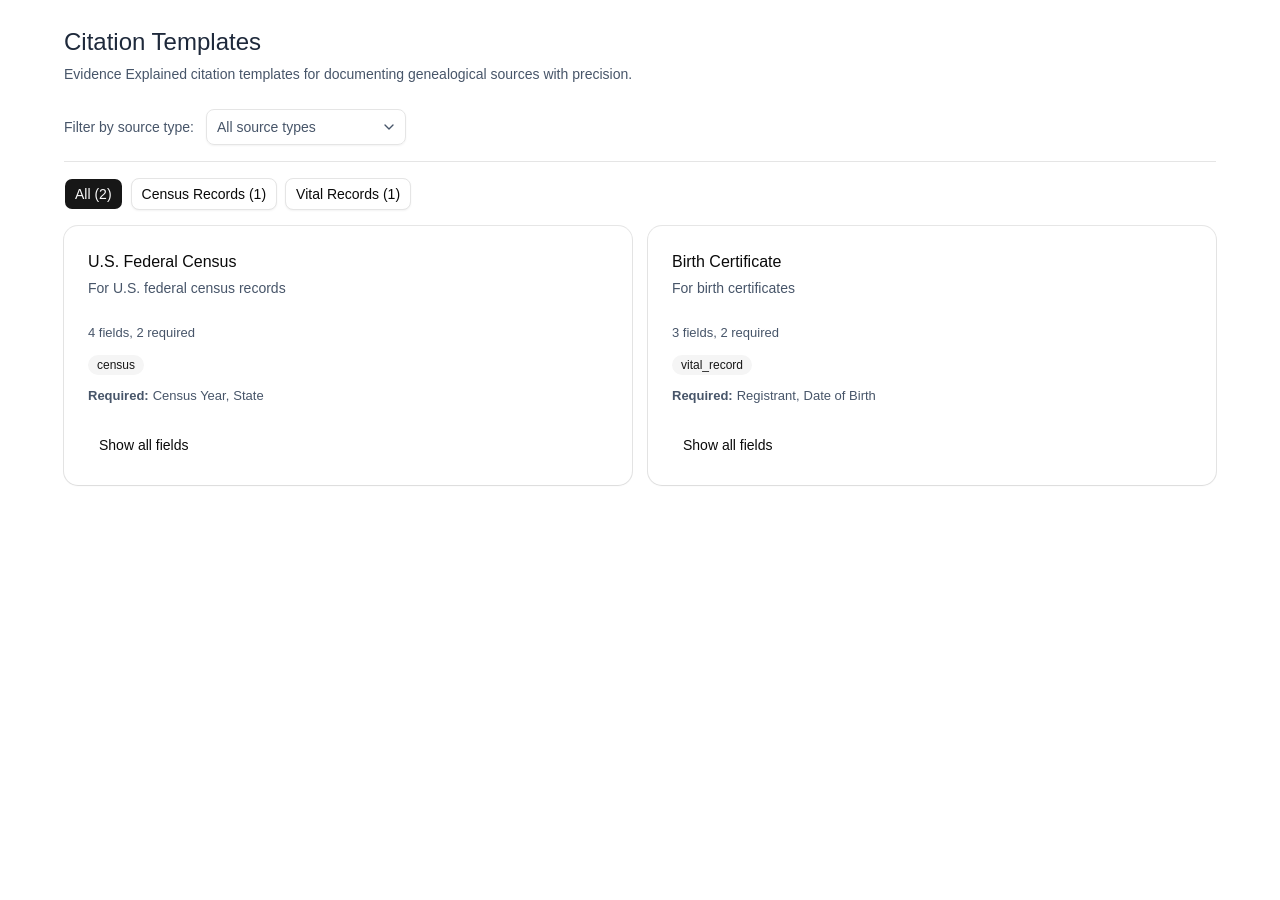
Test: Citation Templates Browse Page › expand button shows field details
Check: the text "U.S. Federal Census" is shown, box x1=88 y1=253 x2=236 y2=270
# Find and click the first "Show all fields" button
Click the button "Show all fields" below "Census Year," at (144, 445), box x1=88 y1=429 x2=200 y2=461
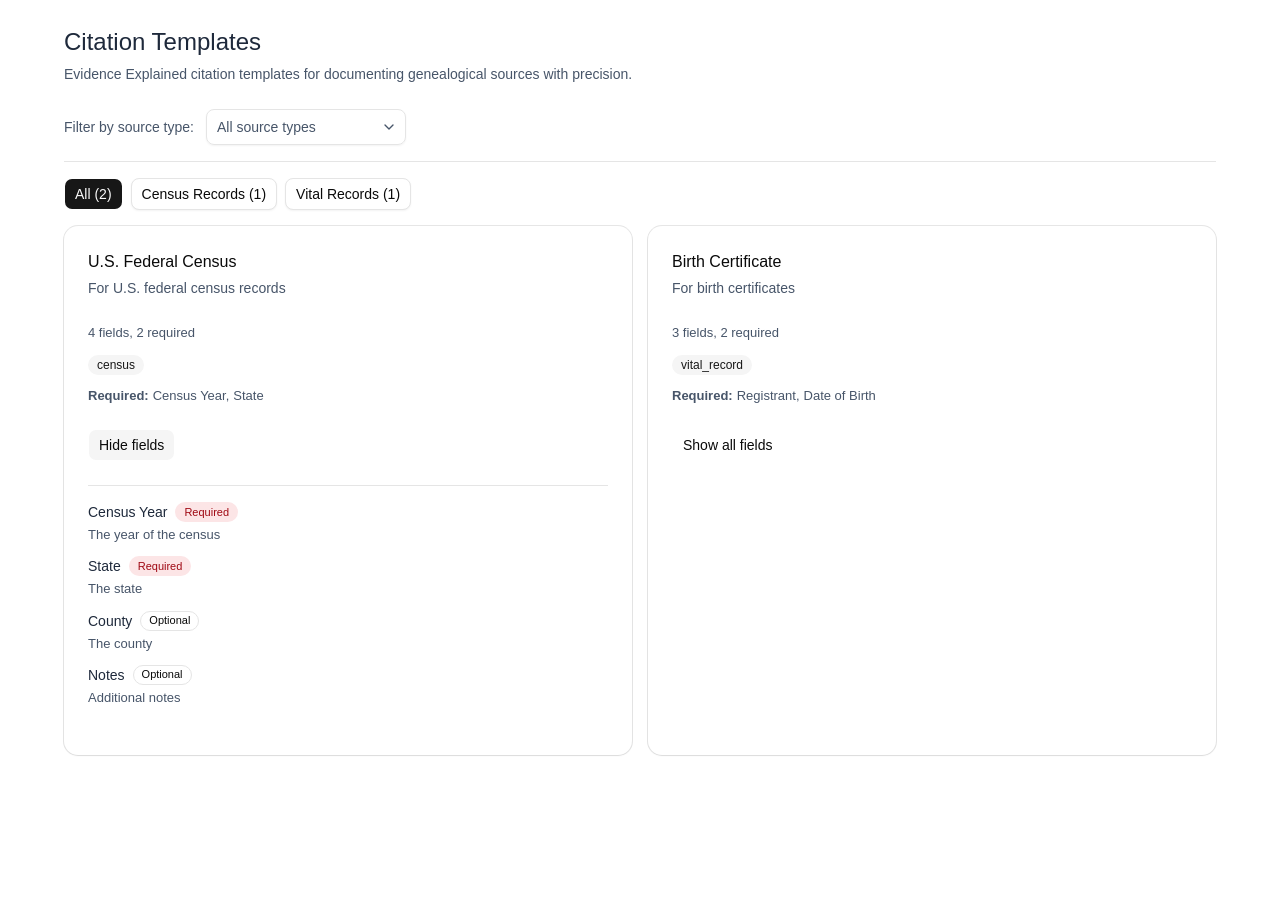
Check: the element with id "fields-census" is shown, box x1=88 y1=502 x2=238 y2=705
Check: the text "Census Year" is shown, box x1=88 y1=502 x2=167 y2=522
Check: the text with class "field-badge" is shown, box x1=175 y1=502 x2=238 y2=522
